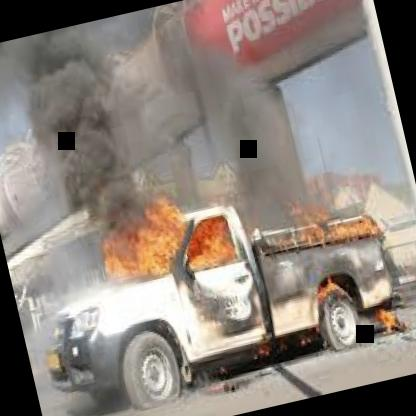fire: (76, 190, 230, 302)
